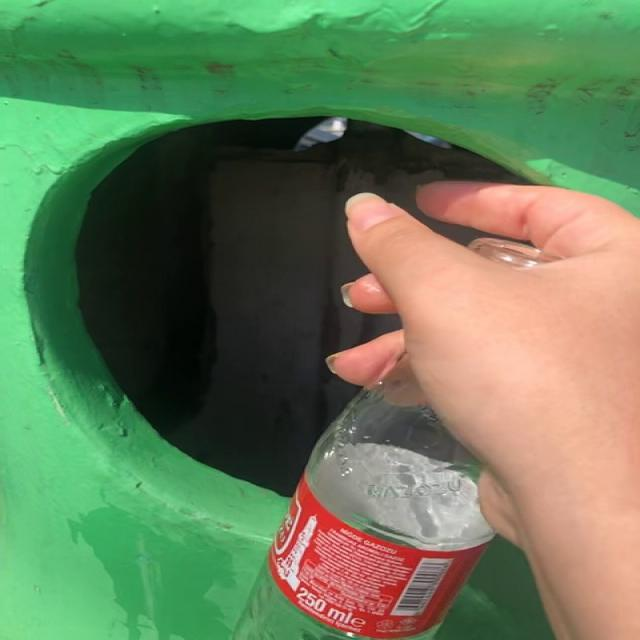glass: (307, 356, 495, 550), (469, 238, 561, 270)
